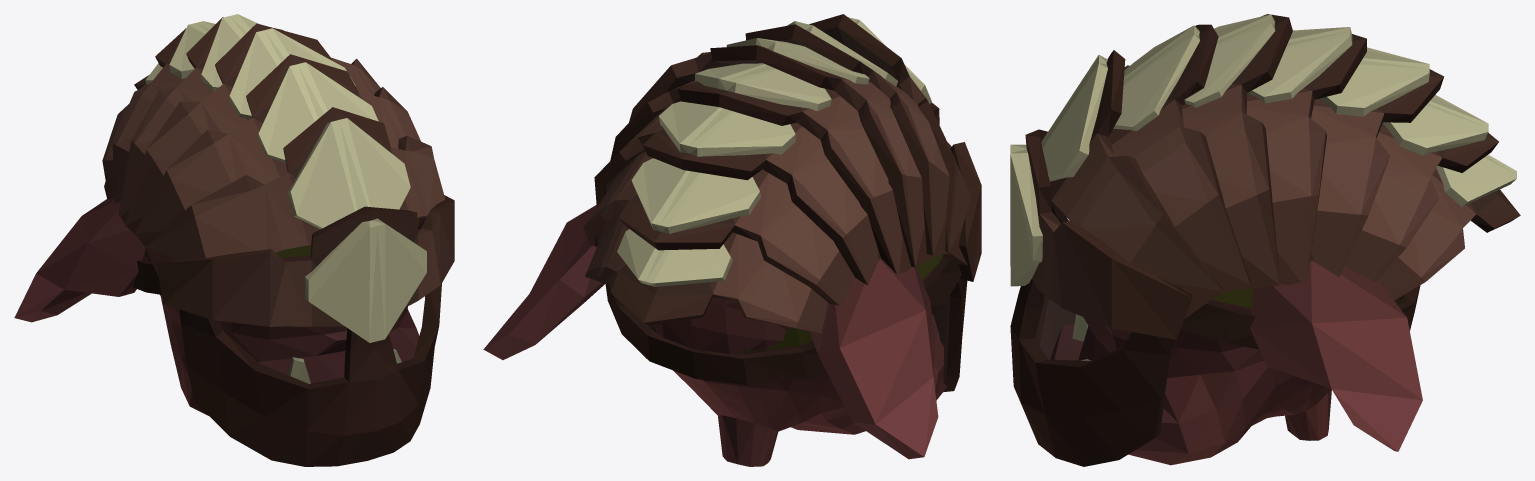
File: Goblin_Red_Head_Helm_4.fbx
3 views of the same model, side by side, from view 1: azimuth 30°, elevation 25°; view 2: azimuth 150°, elevation 25°; view 3: azimuth 270°, elevation 25° (orthographic). The views are drawn at different scales.
Parts seen in each view (by area): view 1: Goblin_Red_Head_Helm_4; view 2: Goblin_Red_Head_Helm_4; view 3: Goblin_Red_Head_Helm_4.
Part boxes in pixels (x1=…): Goblin_Red_Head_Helm_4: x1=14, y1=14, x2=454, y2=466; Goblin_Red_Head_Helm_4: x1=483, y1=14, x2=981, y2=466; Goblin_Red_Head_Helm_4: x1=1010, y1=14, x2=1520, y2=466.
Size of the model in its own units: 1.34 by 1.22 by 1.32.
